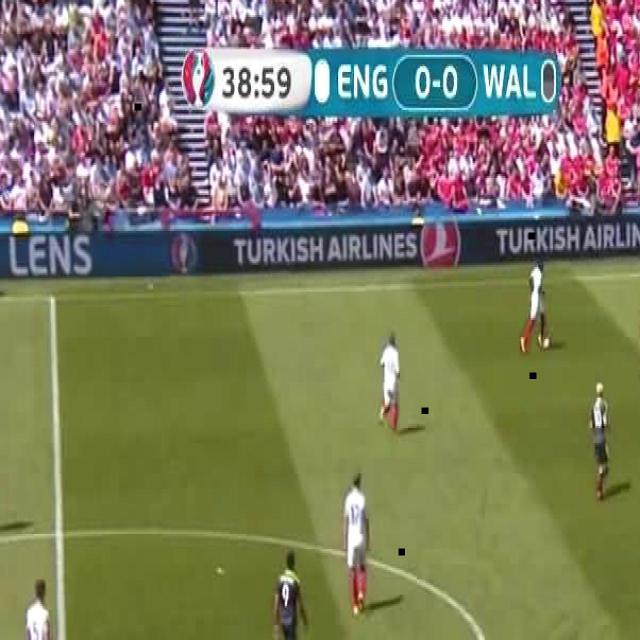ball: (543, 334, 551, 348)
player-white: (343, 474, 371, 618), (272, 553, 308, 640), (588, 381, 612, 501), (519, 259, 547, 355), (25, 575, 66, 640), (378, 332, 402, 433)
